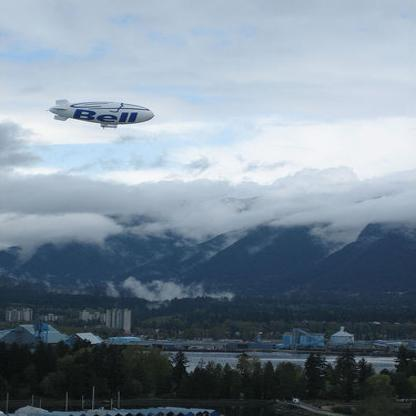Airship: (46, 96, 157, 137)
